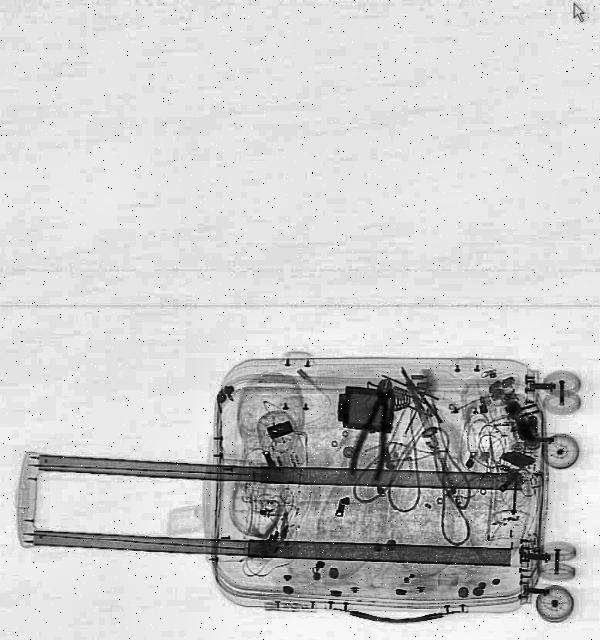Pliers: (348, 373, 402, 481)
